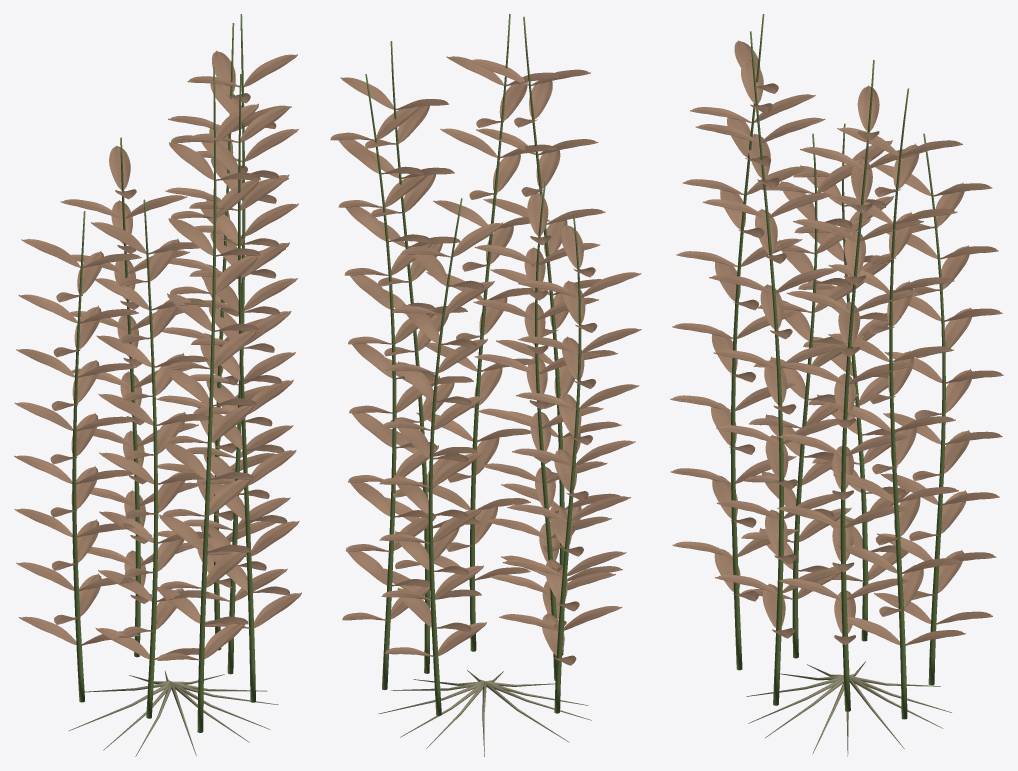
Rendered from rotala-desktop.glb.
3 renders of one model, left to right at view 1: azimuth 30°, elevation 25°; view 2: azimuth 150°, elevation 25°; view 3: azimuth 270°, elevation 25°, orthographic. The views are drawn at different scales.
Visible parts, largest first — view 1: opposite-leaf, branching-stem, anchoring-root; view 2: opposite-leaf, branching-stem, anchoring-root; view 3: opposite-leaf, branching-stem, anchoring-root.
Boxes of the visible parts, <box> form: opposite-leaf: <box>14,50,301,660</box>; branching-stem: <box>72,14,255,732</box>; anchoring-root: <box>69,671,278,756</box>; opposite-leaf: <box>330,56,641,665</box>; branching-stem: <box>365,14,581,715</box>; anchoring-root: <box>378,670,591,756</box>; opposite-leaf: <box>670,40,1003,645</box>; branching-stem: <box>730,14,945,719</box>; anchoring-root: <box>746,661,951,756</box>.
Bounding box in the file's own units: 0.3714 × 0.878 × 0.3815.
